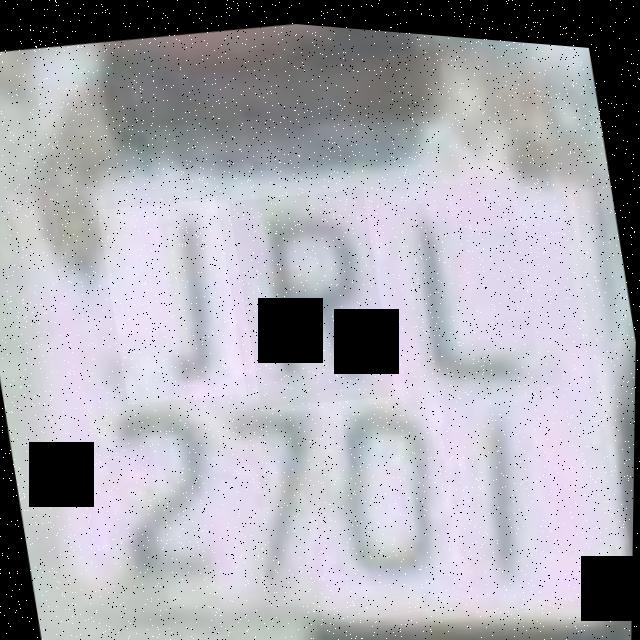0: (314, 364, 471, 599)
1: (455, 378, 555, 573)
2: (80, 363, 260, 623)
7: (206, 375, 350, 607)
J: (369, 160, 547, 408), (95, 187, 250, 410)
R: (226, 173, 399, 412)
